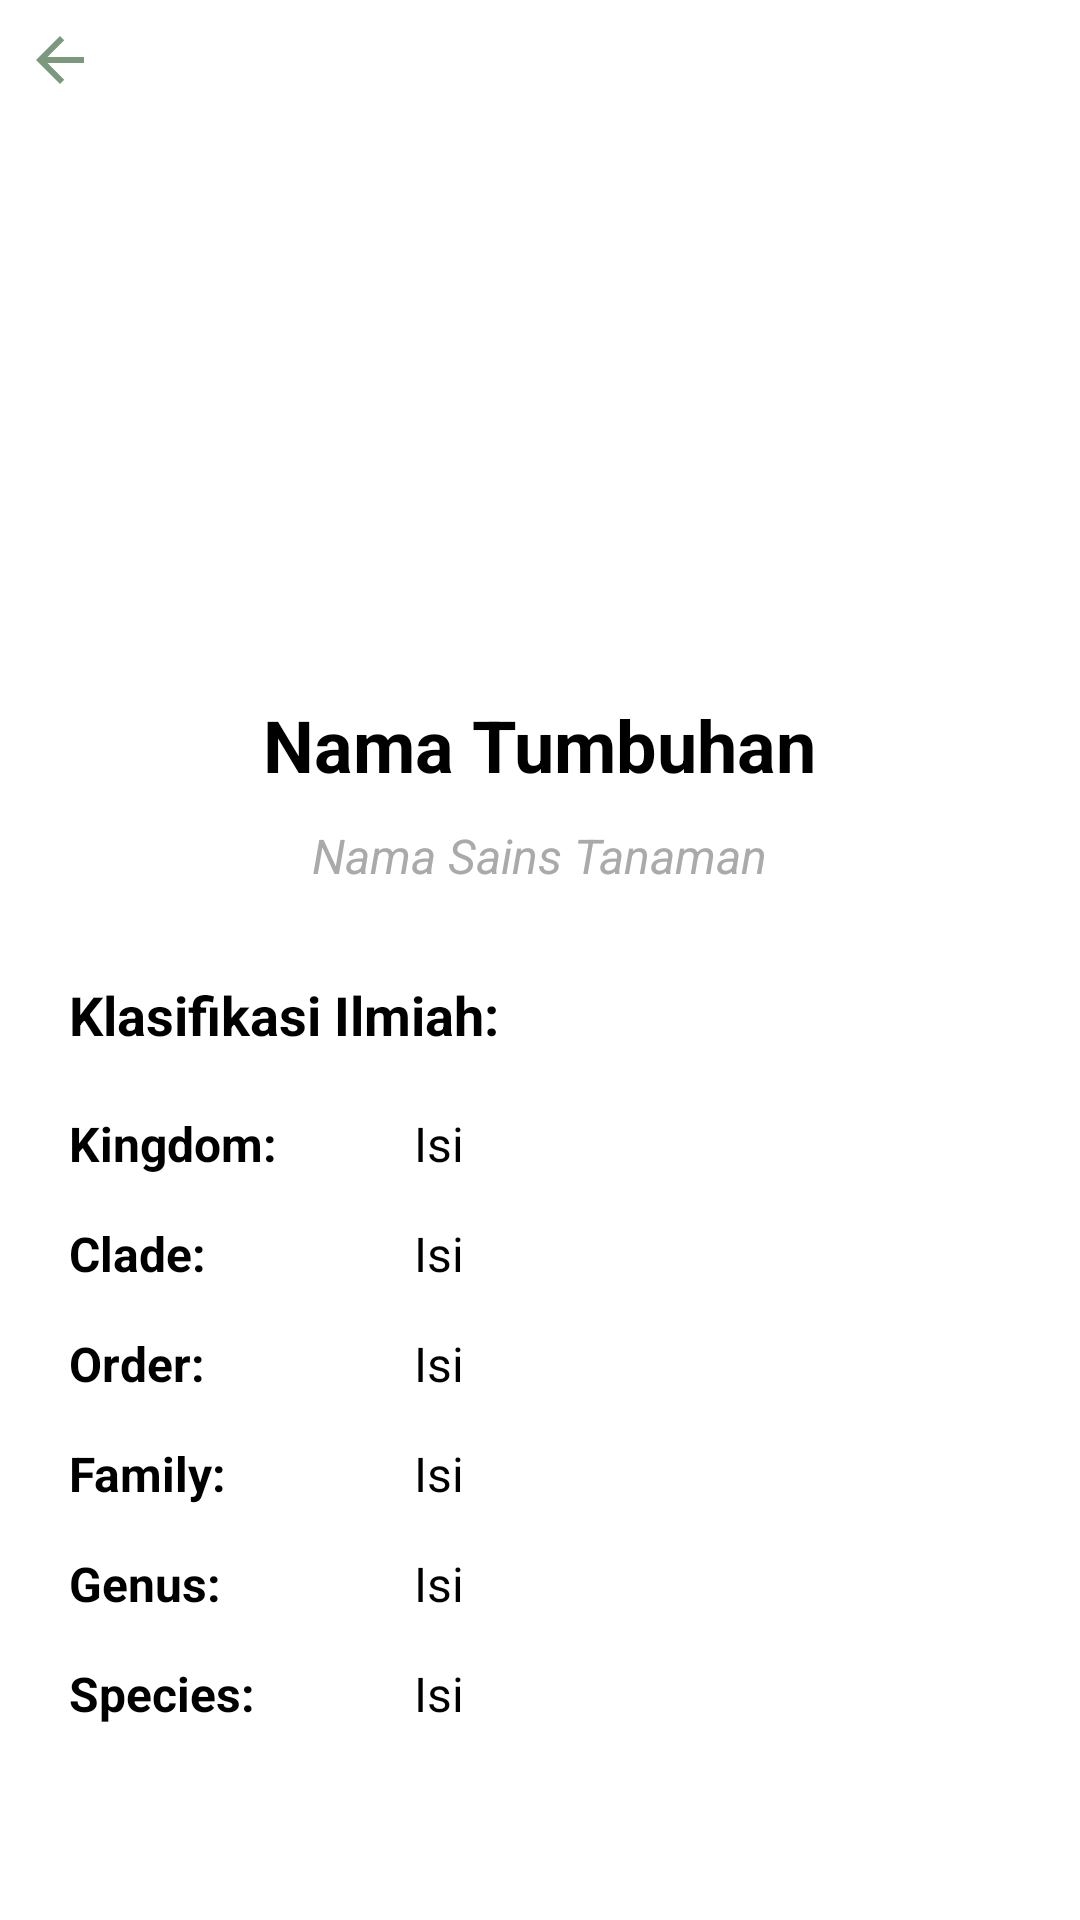

Screen size 1080 x 1920. Icon name, then its box in pixels as [x1, y1, x2, y2]:
back: [36, 36, 84, 84]
